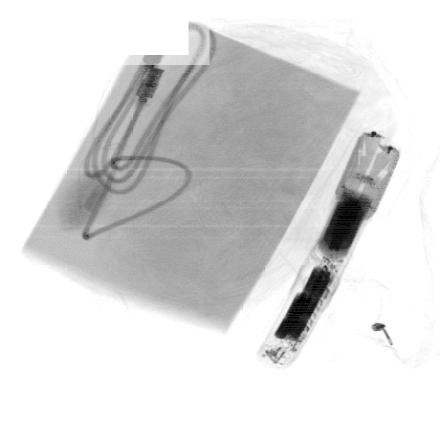Baton: (253, 128, 403, 371)
